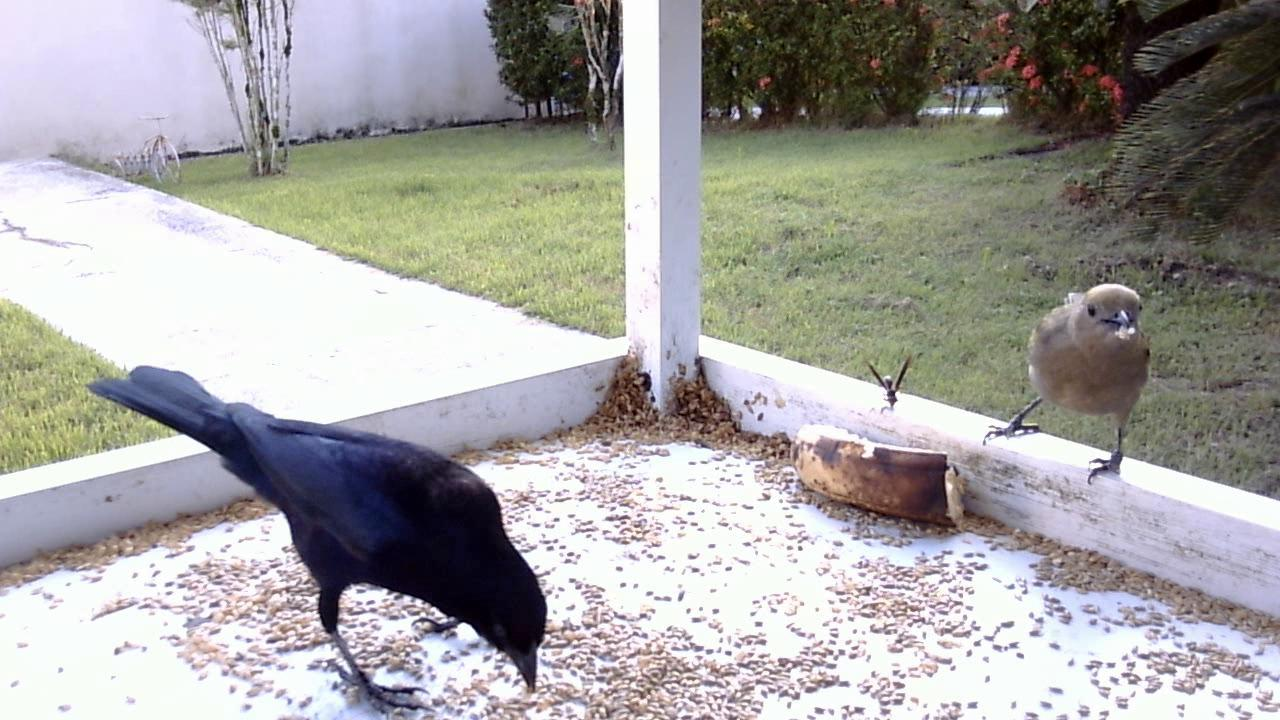chupim: (77, 349, 548, 718)
sanhaco_do_coqueiro: (982, 270, 1158, 496)
